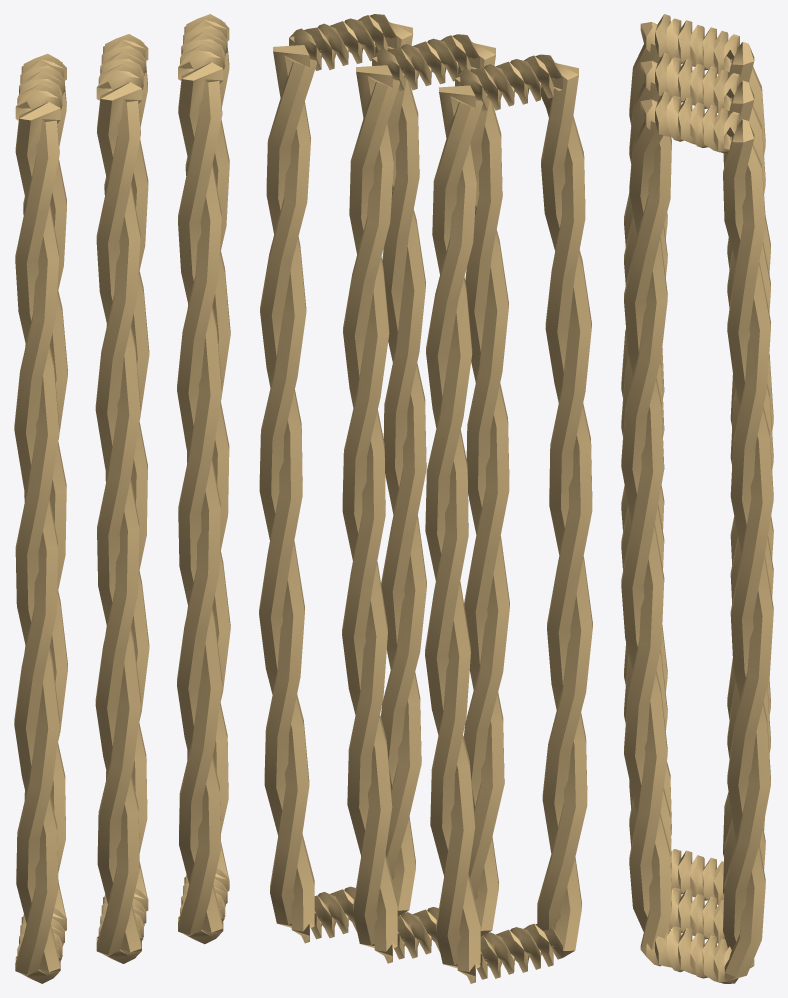
File: rope_lash.glb
3 renders of one model, left to right at view 1: azimuth 30°, elevation 25°; view 2: azimuth 150°, elevation 25°; view 3: azimuth 270°, elevation 25°, orthographic. The views are drawn at different scales.
Visible parts, largest first — view 1: rope; view 2: rope; view 3: rope.
Boxes of the visible parts, left/top/right/bottom form: rope: left=14, top=14, right=230, bottom=983; rope: left=259, top=14, right=592, bottom=983; rope: left=621, top=14, right=773, bottom=983.
Size of the model in its own units: 0.332 by 1.05 by 0.1663.
